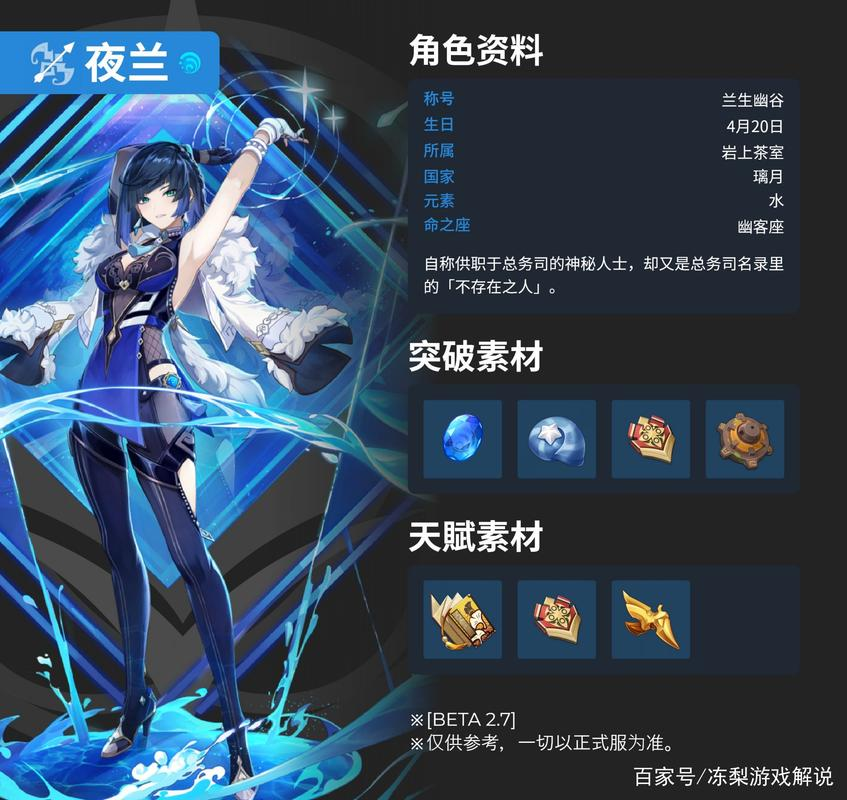夜兰: (63, 113, 310, 800)
